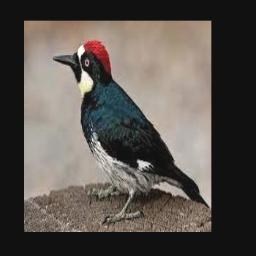Woodpecker: (52, 40, 209, 221)
